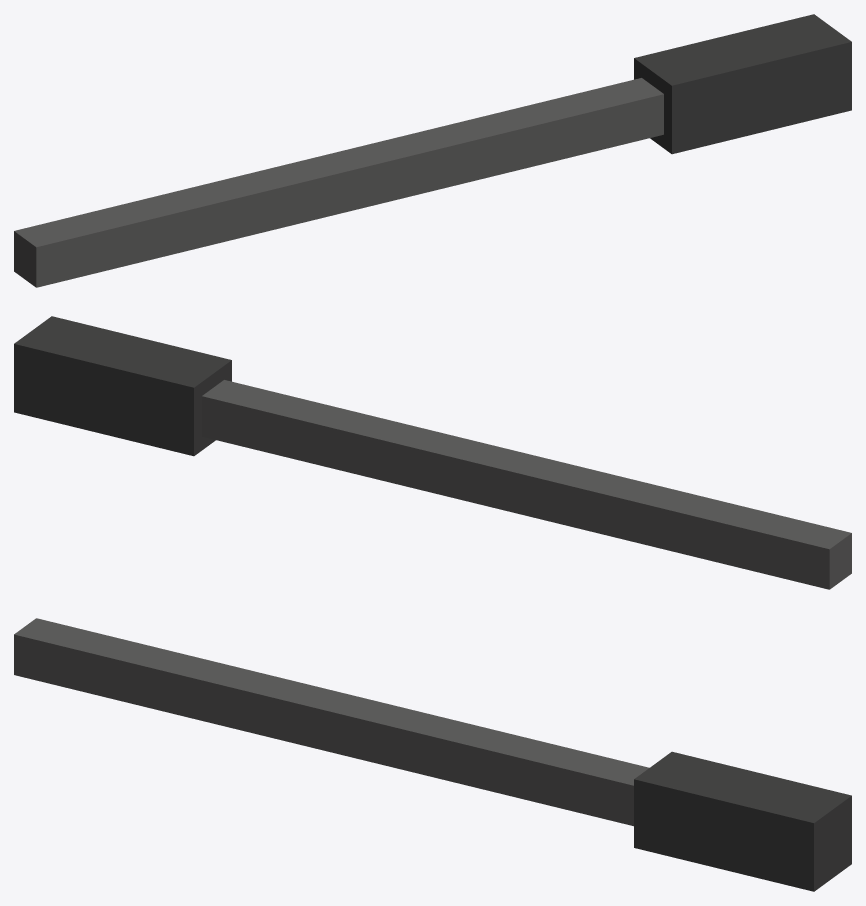
File: Cable_A_1_1.glb
The picture shows the model from 3 angles, top to bottom: view 1: azimuth 30°, elevation 25°; view 2: azimuth 150°, elevation 25°; view 3: azimuth 330°, elevation 25°; orthographic projection.
Visible parts, largest first — view 1: Cable_A_1_1; view 2: Cable_A_1_1; view 3: Cable_A_1_1.
Part boxes in pixels (box(x1,y1,x2,y2)): Cable_A_1_1: box(14, 14, 851, 287); Cable_A_1_1: box(14, 316, 851, 589); Cable_A_1_1: box(14, 618, 851, 891).
Bounding box in the file's own units: 1.21 × 0.0983 × 0.0983.
Materials: 1 (1 with a texture image).
